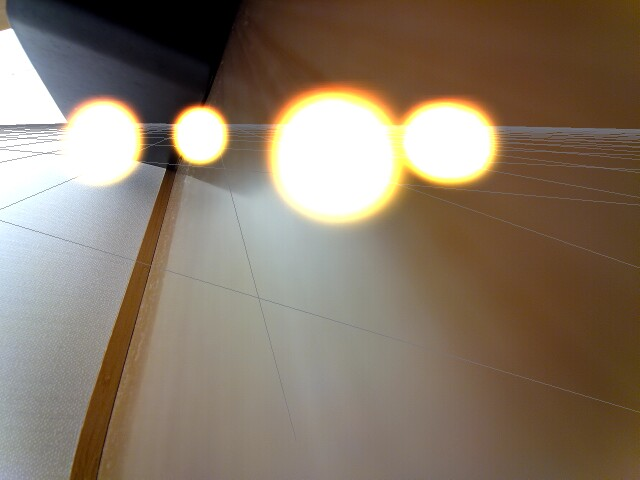fire: (270, 92, 401, 222), (405, 99, 500, 183), (58, 98, 142, 187), (170, 106, 232, 165)
